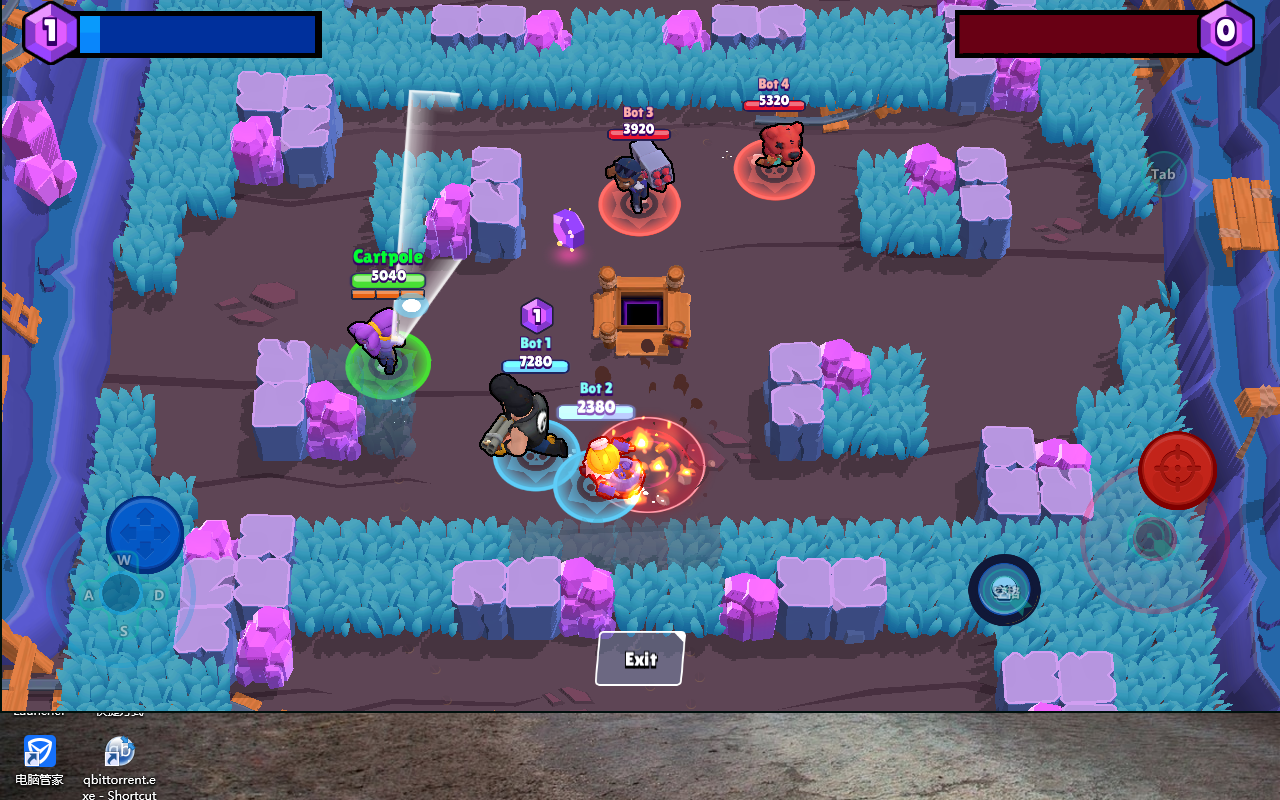current_player: (344, 335, 429, 401)
